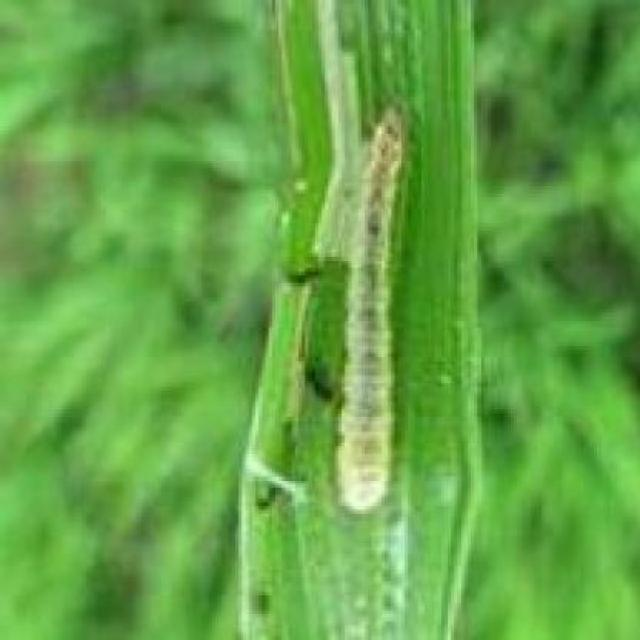leaf-folder: (320, 95, 411, 573)
